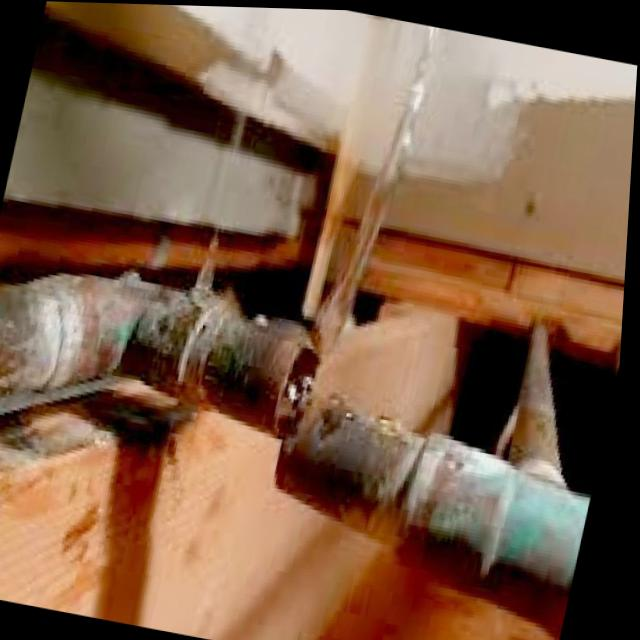leak: (298, 24, 465, 369), (186, 49, 298, 312)
